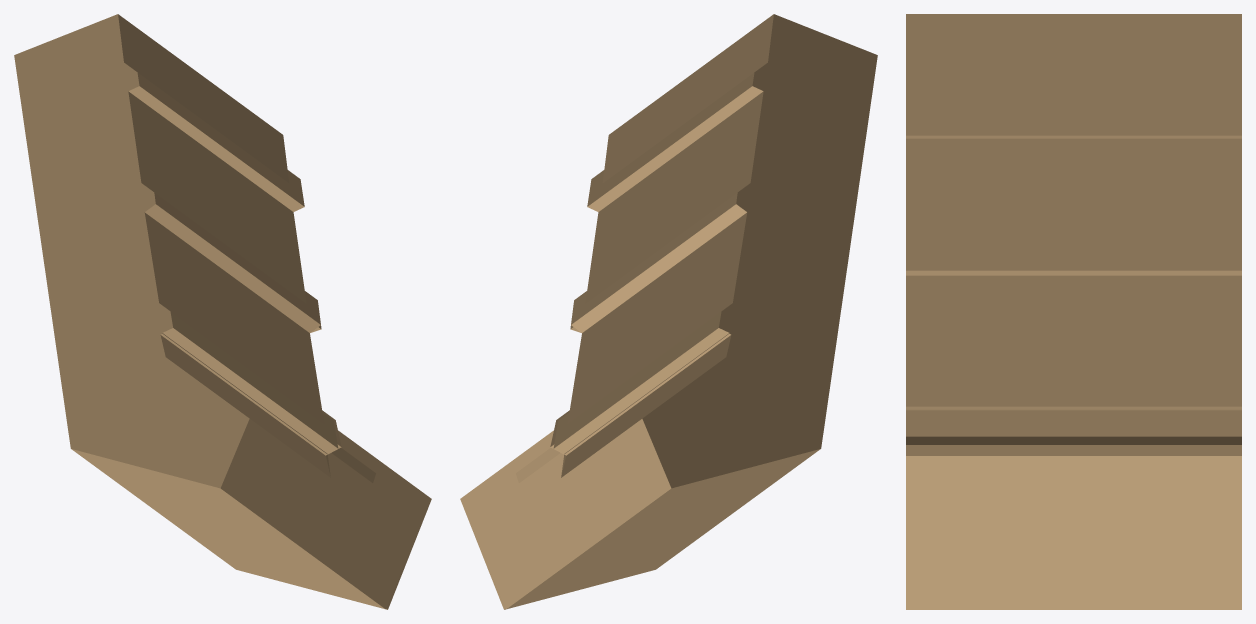
3 views of the same model, side by side, from view 1: azimuth 30°, elevation 25°; view 2: azimuth 150°, elevation 25°; view 3: azimuth 270°, elevation 25° (orthographic).
Parts seen in each view (by area): view 1: 0_1_0_0_2_2_1_0; view 2: 0_1_0_0_2_2_1_0; view 3: 0_1_0_0_2_2_1_0.
Boxes of the visible parts, x1=… form: 0_1_0_0_2_2_1_0: x1=14, y1=14, x2=431, y2=609; 0_1_0_0_2_2_1_0: x1=460, y1=14, x2=877, y2=609; 0_1_0_0_2_2_1_0: x1=906, y1=14, x2=1241, y2=609.
Bounding box in the file's own units: 23.82 × 45.13 × 27.
